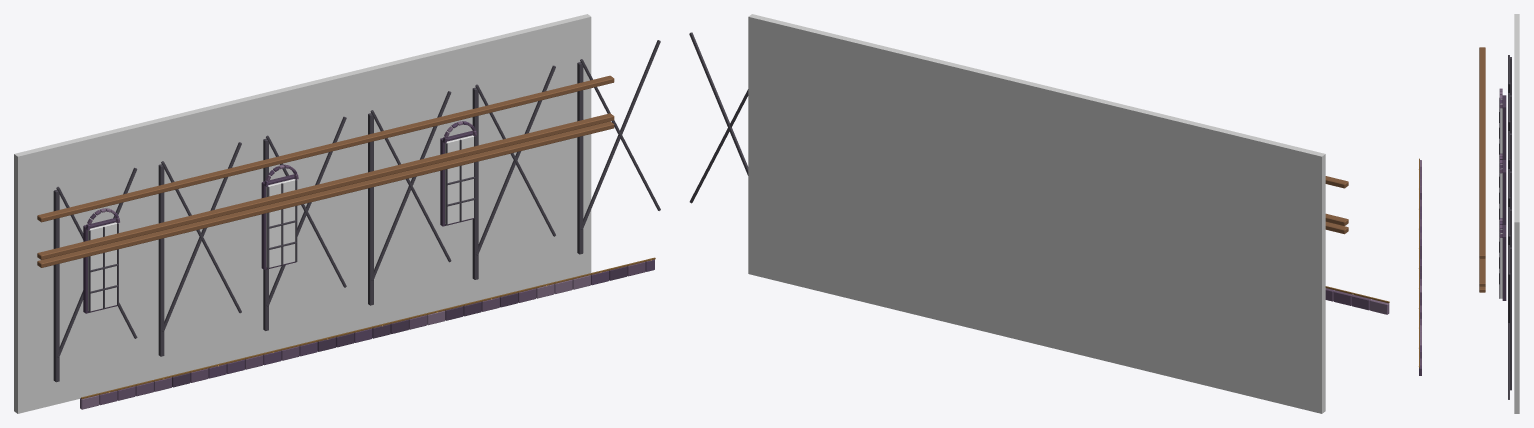
Rendered from SM_Workshop_Background_01.fbx.
3 renders of one model, left to right at view 1: azimuth 30°, elevation 25°; view 2: azimuth 150°, elevation 25°; view 3: azimuth 270°, elevation 25°, orthographic. The views are drawn at different scales.
Visible parts, largest first — view 1: SM_Workshop_Background_01; view 2: SM_Workshop_Background_01; view 3: SM_Workshop_Background_01.
Boxes of the visible parts, <box> form: SM_Workshop_Background_01: <box>14,14,660,413</box>; SM_Workshop_Background_01: <box>689,14,1389,413</box>; SM_Workshop_Background_01: <box>1418,14,1519,413</box>.
Size of the model in its own units: 3511 by 649 by 1350.
